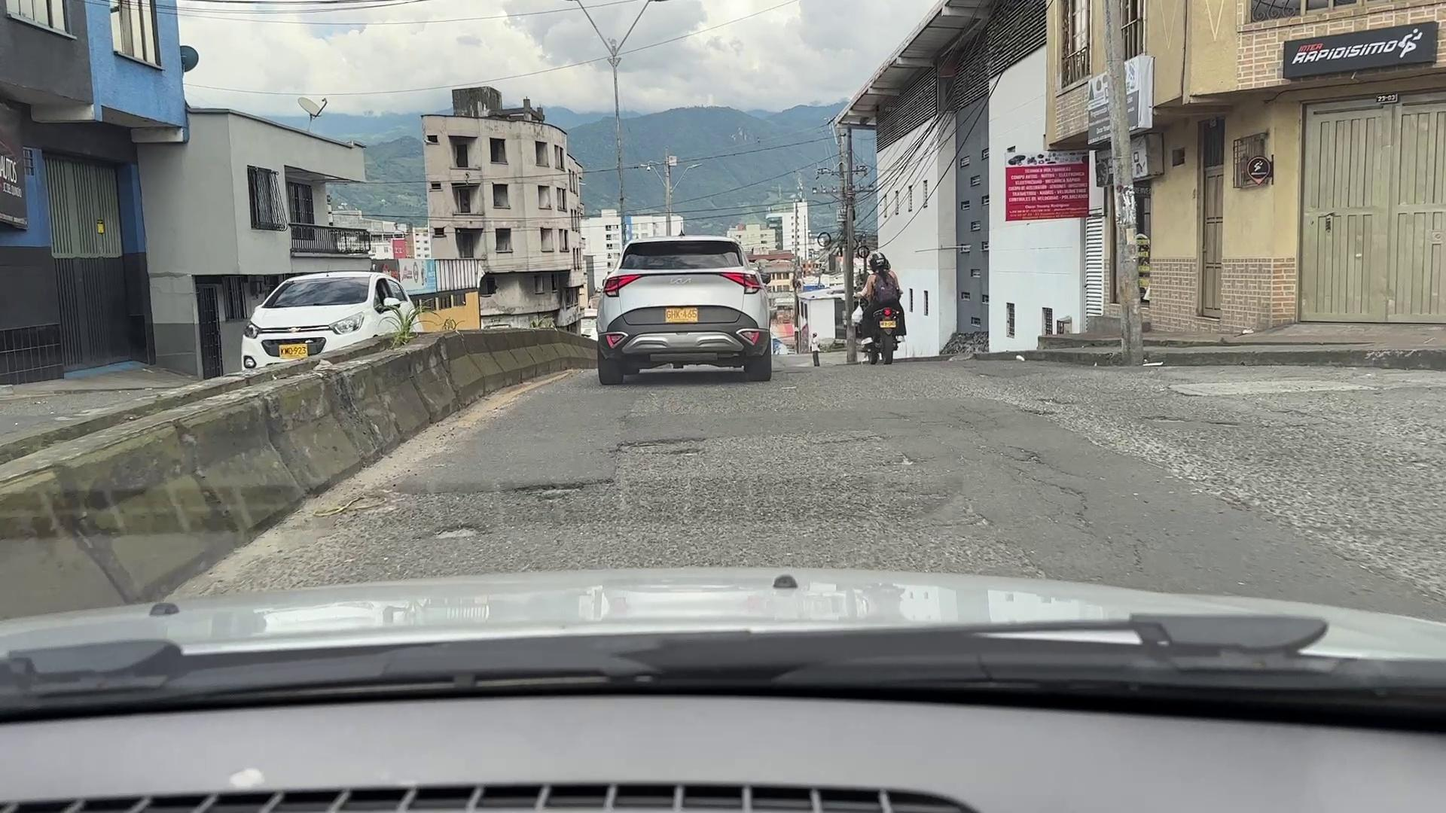bache: (614, 438, 705, 451), (509, 484, 581, 495), (435, 528, 477, 538), (1144, 415, 1187, 423), (1020, 409, 1054, 415), (664, 449, 699, 454), (1210, 422, 1236, 427)
